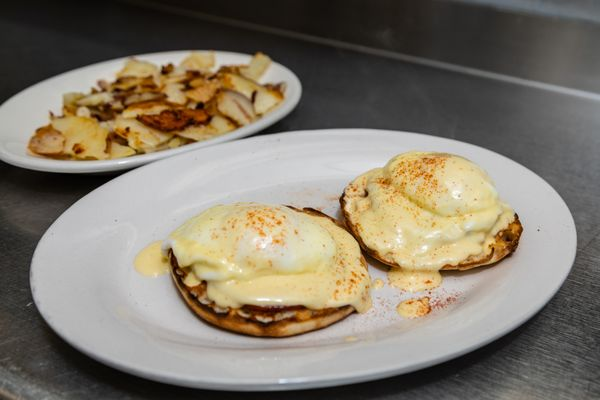soup: (164, 200, 373, 337)
sushi: (0, 49, 303, 176)
